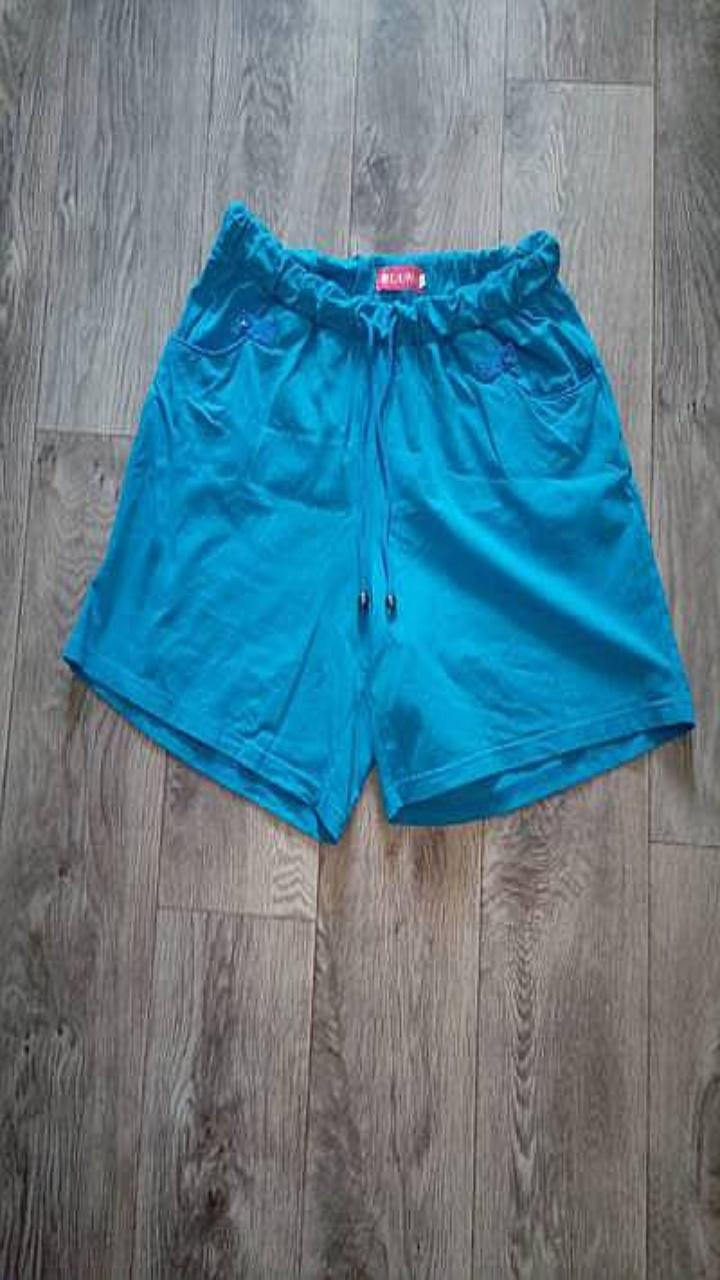Shorts: (62, 201, 694, 842)
